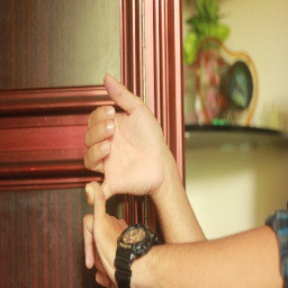S: (67, 68, 175, 288)
